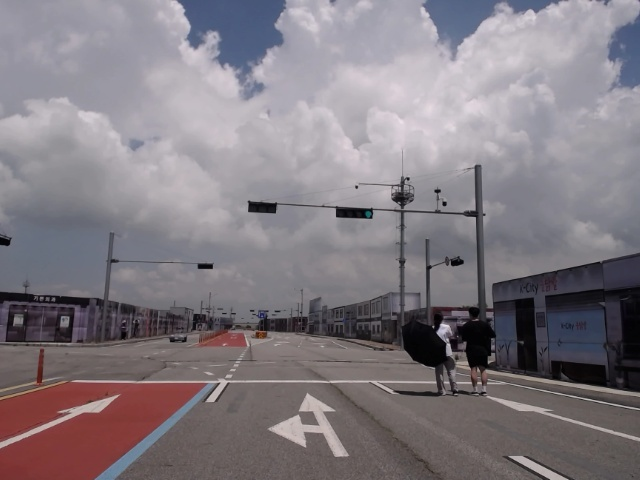straight_green_4: (336, 206, 373, 219)
